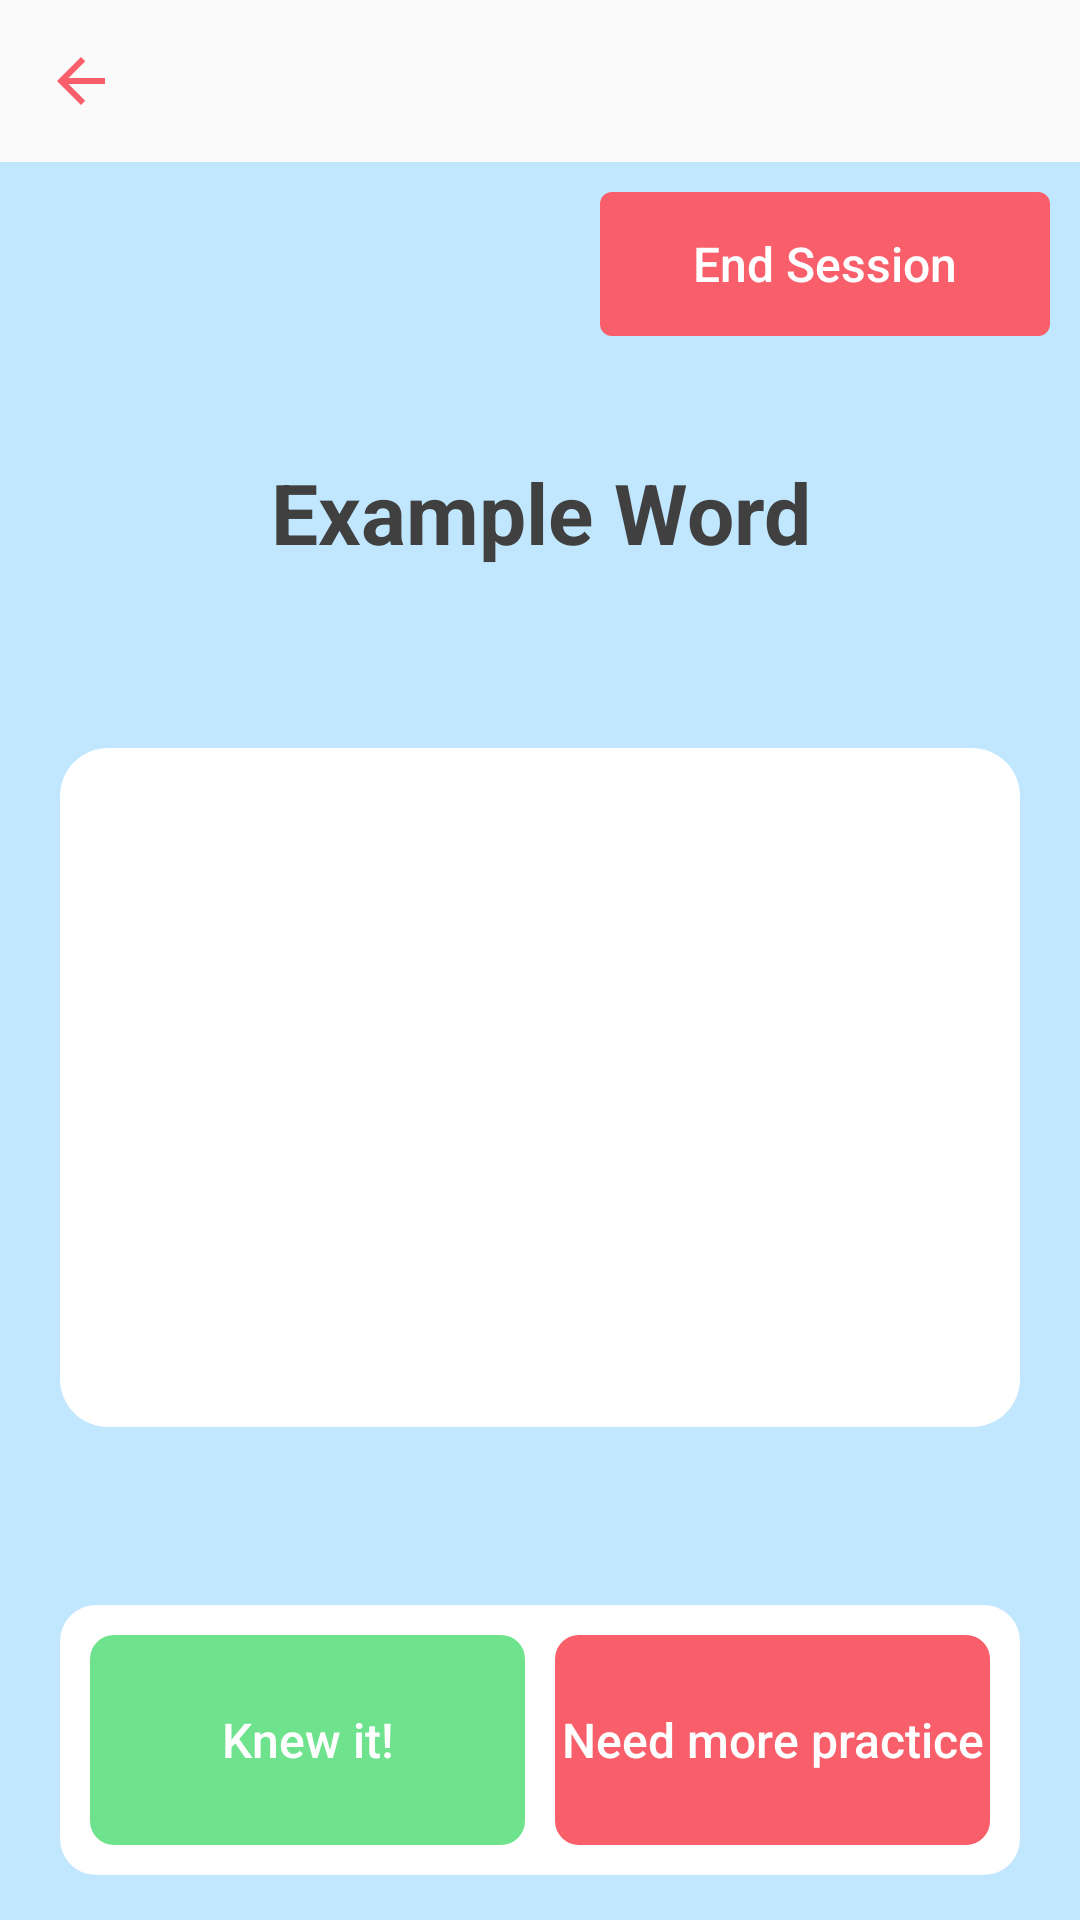

Icons on this 1080px×1920px Android screen, each with the point to tap as point (x, y):
back: point (81, 81)
